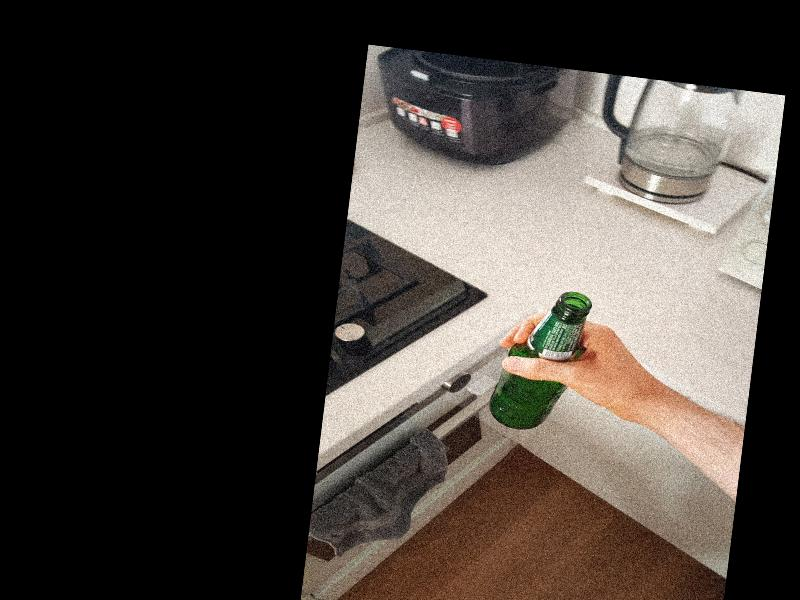Beer: (486, 284, 593, 437)
